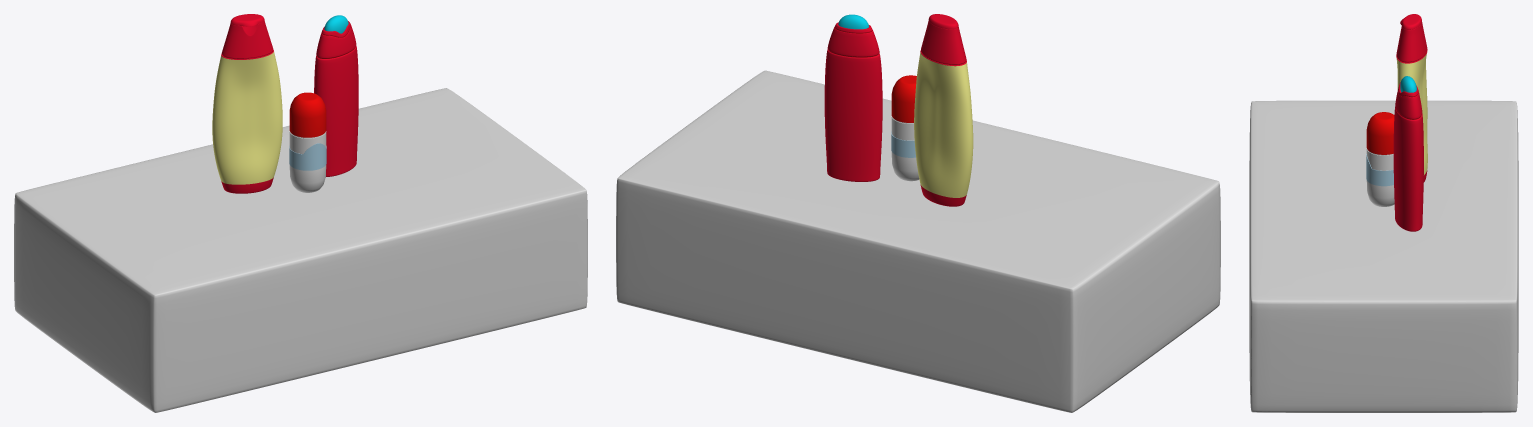
File: Shampoo.fbx
The picture shows the model from 3 angles, left to right: view 1: azimuth 30°, elevation 25°; view 2: azimuth 150°, elevation 25°; view 3: azimuth 270°, elevation 25°; orthographic projection. The views are drawn at different scales.
Visible parts, largest first — view 1: Cube, Circle.001, Circle.003, Circle, Circle.005; view 2: Cube, Circle.001, Circle.003, Circle; view 3: Cube, Circle.003, Circle.001, Circle, Circle.005, Circle.002.
Part boxes in pixels (x1=…): Cube: x1=14, y1=88, x2=587, y2=412; Circle.001: x1=212, y1=20, x2=282, y2=193; Circle.003: x1=314, y1=21, x2=358, y2=176; Circle: x1=289, y1=92, x2=326, y2=192; Circle.005: x1=289, y1=143, x2=326, y2=170; Cube: x1=616, y1=70, x2=1220, y2=412; Circle.001: x1=914, y1=21, x2=973, y2=206; Circle.003: x1=824, y1=22, x2=882, y2=181; Circle: x1=891, y1=75, x2=919, y2=181; Cube: x1=1249, y1=100, x2=1518, y2=412; Circle.003: x1=1393, y1=82, x2=1423, y2=231; Circle.001: x1=1396, y1=22, x2=1427, y2=182; Circle: x1=1366, y1=112, x2=1394, y2=206; Circle.005: x1=1366, y1=154, x2=1393, y2=186; Circle.002: x1=1400, y1=14, x2=1421, y2=29.
Size of the model in its own units: 1125 by 714 by 631.
